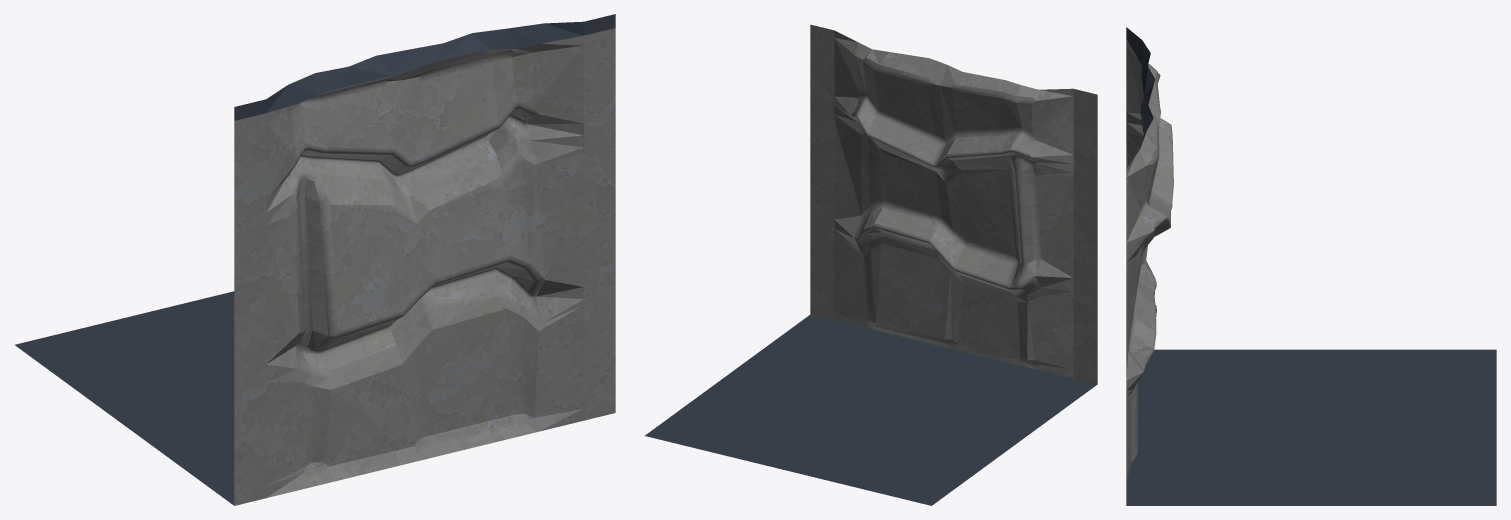
File: cliff_wall_edge_a.glb
3 renders of one model, left to right at view 1: azimuth 30°, elevation 25°; view 2: azimuth 150°, elevation 25°; view 3: azimuth 270°, elevation 25°, orthographic. The views are drawn at different scales.
Parts seen in each view (by area): view 1: CliffWall_edge_a_Body.001; view 2: CliffWall_edge_a_Body.001; view 3: CliffWall_edge_a_Body.001.
Boxes of the visible parts, x1,y1,x2,y2 form: CliffWall_edge_a_Body.001: (15,14,615,505); CliffWall_edge_a_Body.001: (645,24,1097,505); CliffWall_edge_a_Body.001: (1126,27,1496,505).
Bounding box in the file's own units: 1 × 1 × 1.
Materials: 3 (1 with a texture image).
